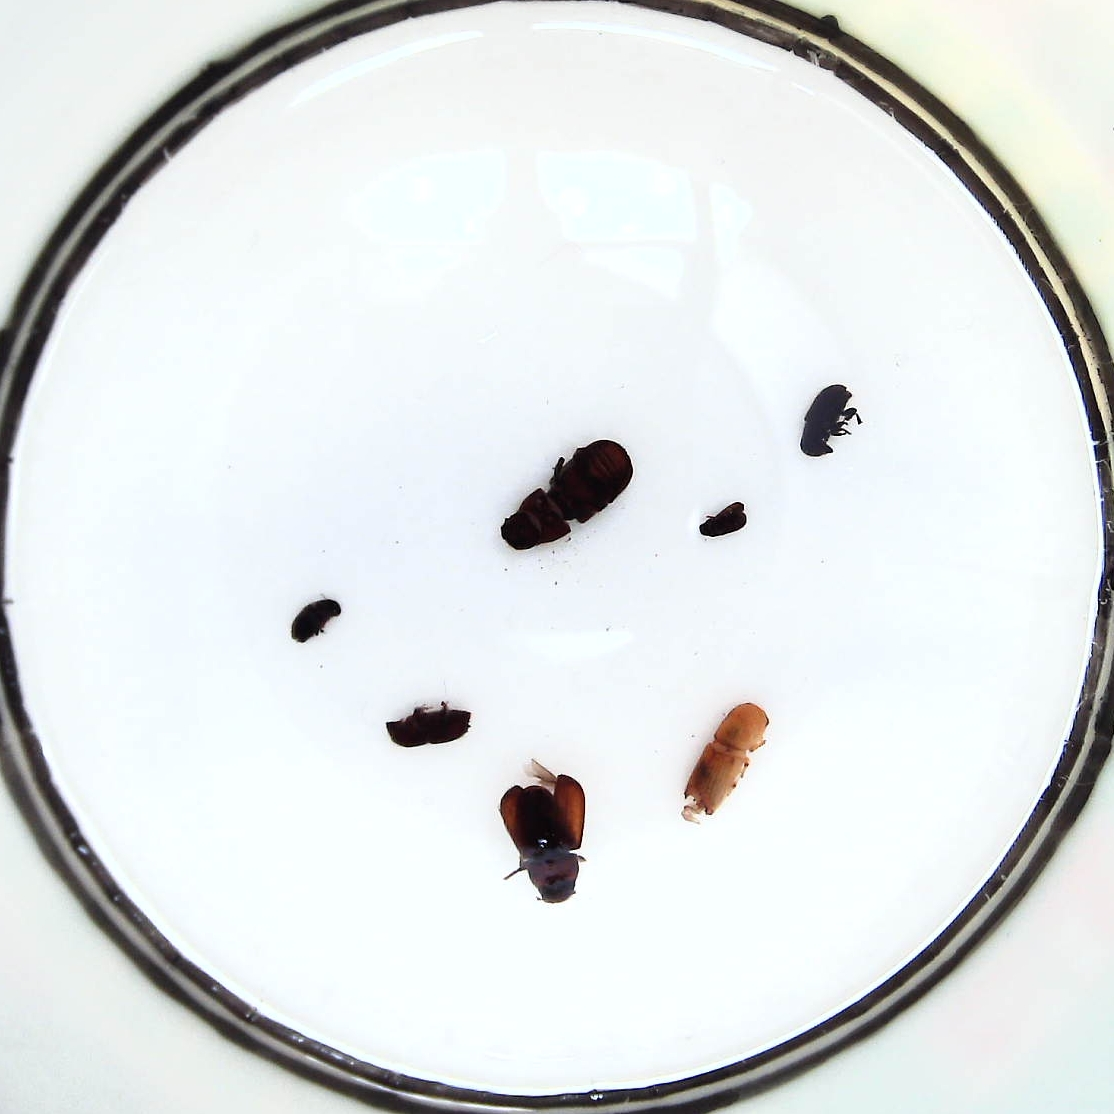Boerner: (683, 703, 769, 820)
Leconte: (499, 438, 632, 550), (501, 775, 586, 902)
acuminatus: (291, 598, 341, 642)
armandi: (800, 383, 853, 457)
coleoptera: (698, 501, 747, 537)
linnaeus: (384, 710, 472, 748)
